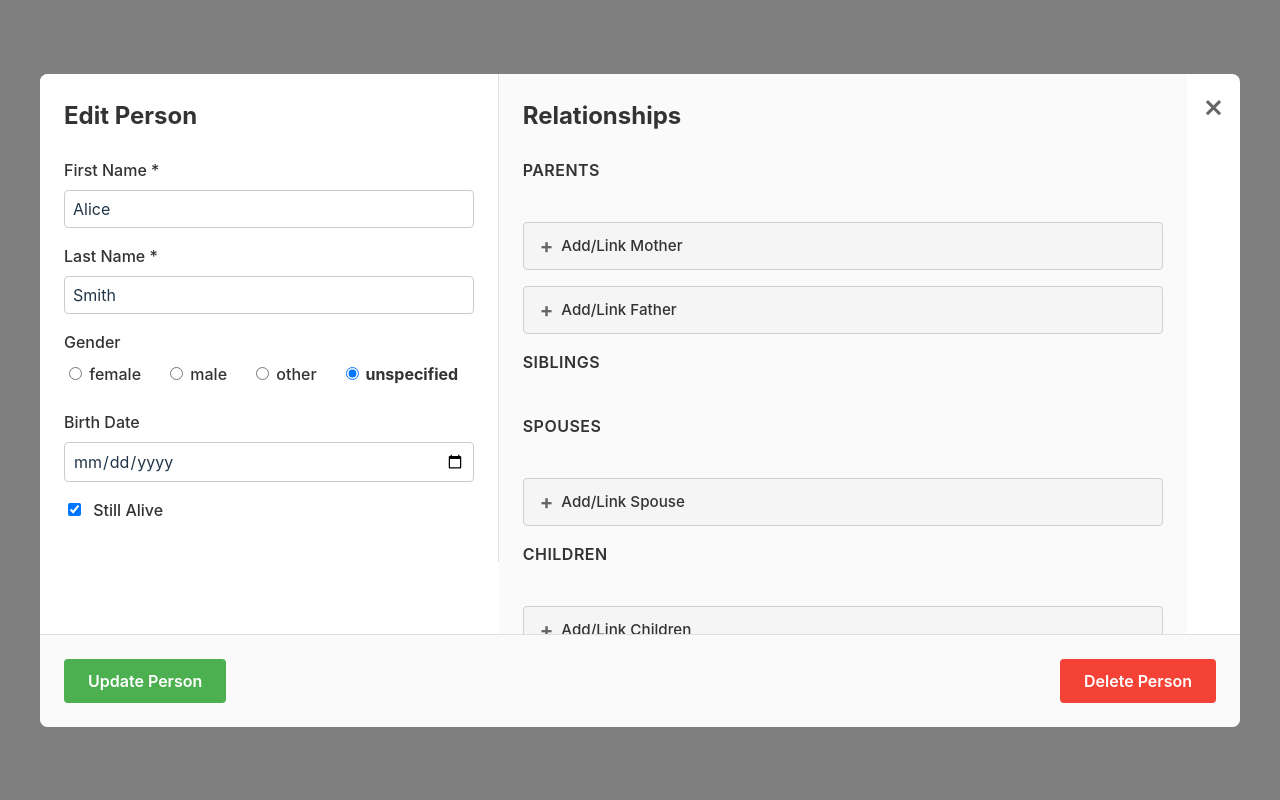
it: PersonModal - Parents Section with CollapsibleActionPanel (Issue #53) › AC2: Clicking mother panel expands to show Create/Link options › should expand panel and show two option buttons when clicked
Note: WHEN user clicks the trigger button
Click the button with class "trigger-button" showing "+ Add/Link Mother": point(622, 246) [523,222,1163,270]
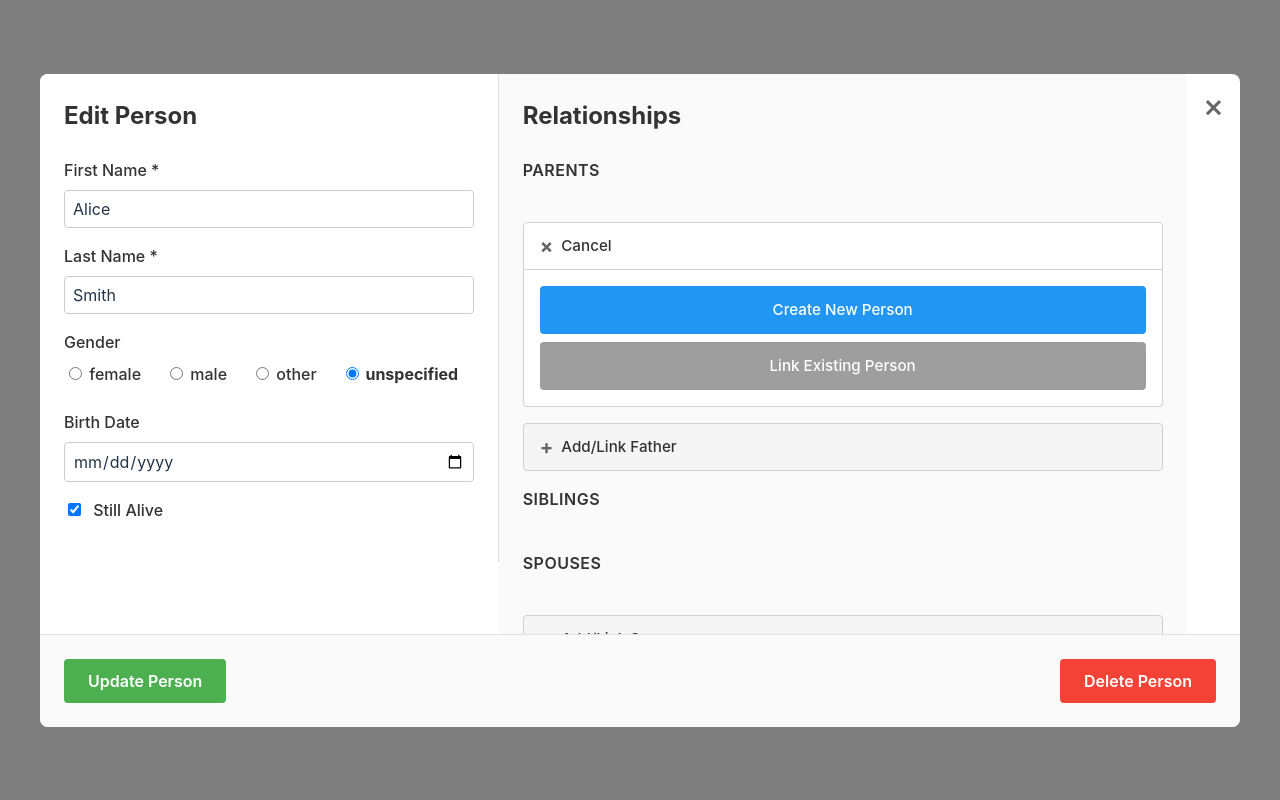
Check: the button "Create New Person" is shown, box [540,286,1146,334]
Check: the button "Link Existing Person" is shown, box [540,342,1146,390]
Check: the button with class "trigger-button" is expanded, box [523,222,1163,270]
